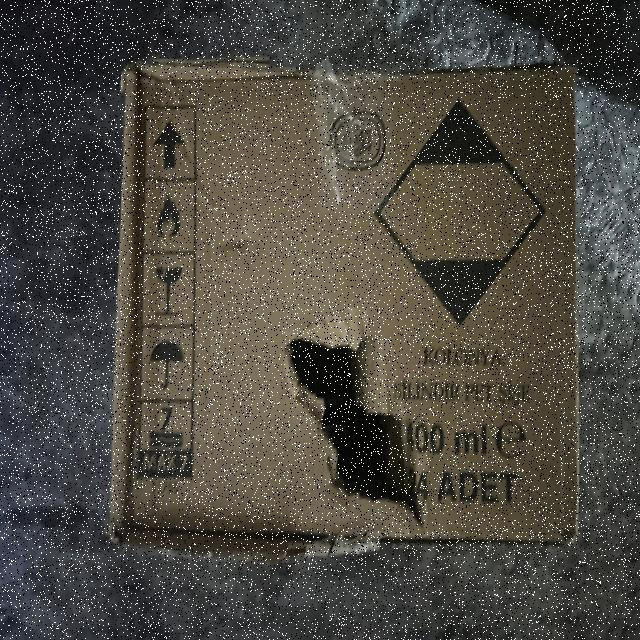damaged: (121, 61, 582, 544), (278, 306, 438, 538)
